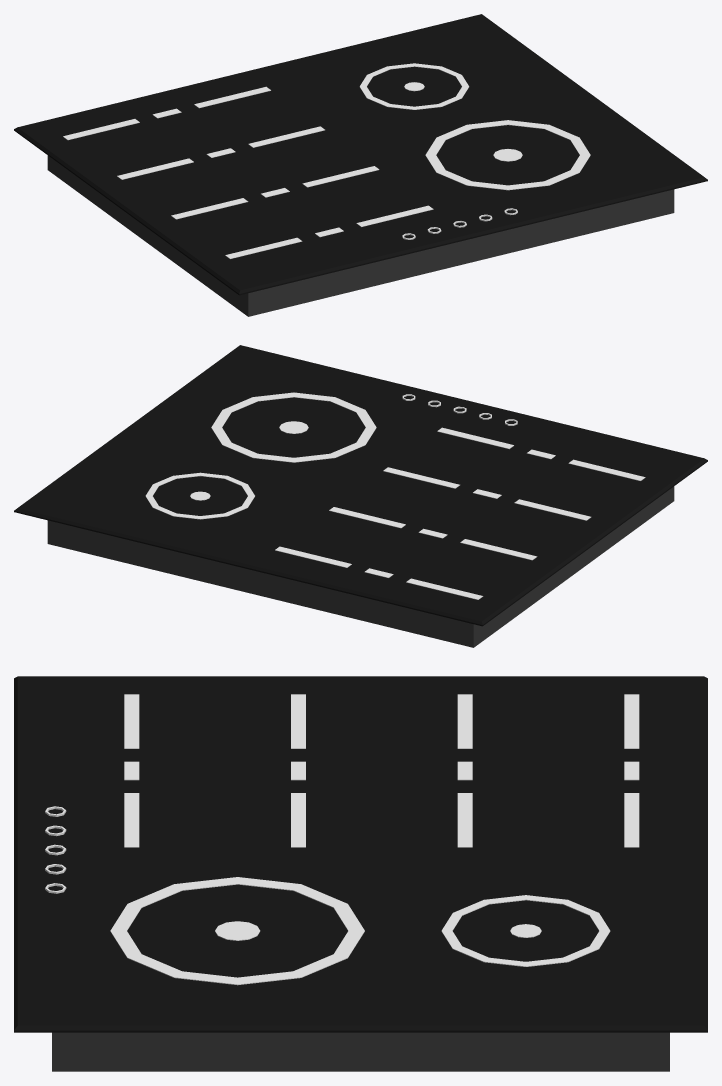
The model's file is stove_top.glb.
3 views of the same model, one above another, from view 1: azimuth 30°, elevation 25°; view 2: azimuth 150°, elevation 25°; view 3: azimuth 270°, elevation 25° (orthographic). The views are drawn at different scales.
Visible parts, largest first — view 1: Low Poly Stove Top, KAC_Stove_HeatingTop_V5; view 2: Low Poly Stove Top, KAC_Stove_HeatingTop_V5; view 3: Low Poly Stove Top, KAC_Stove_HeatingTop_V5.
Boxes of the visible parts, box(x1,y1,x2,y2) form: Low Poly Stove Top: box(14, 14, 707, 316); KAC_Stove_HeatingTop_V5: box(63, 63, 590, 258); Low Poly Stove Top: box(14, 345, 707, 647); KAC_Stove_HeatingTop_V5: box(145, 392, 645, 599); Low Poly Stove Top: box(14, 676, 707, 1071); KAC_Stove_HeatingTop_V5: box(110, 694, 639, 985).
Size of the model in its own units: 0.55 by 0.0553 by 0.458.
Materials: 2 (2 with a texture image).
